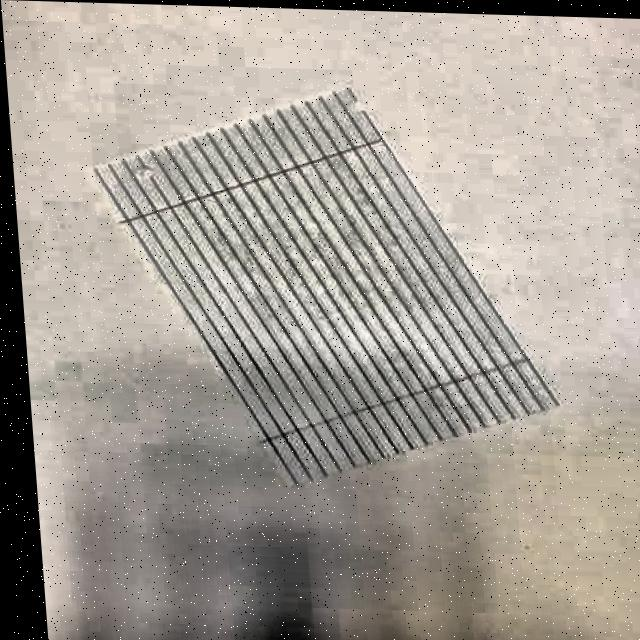paper: (85, 78, 565, 499)
